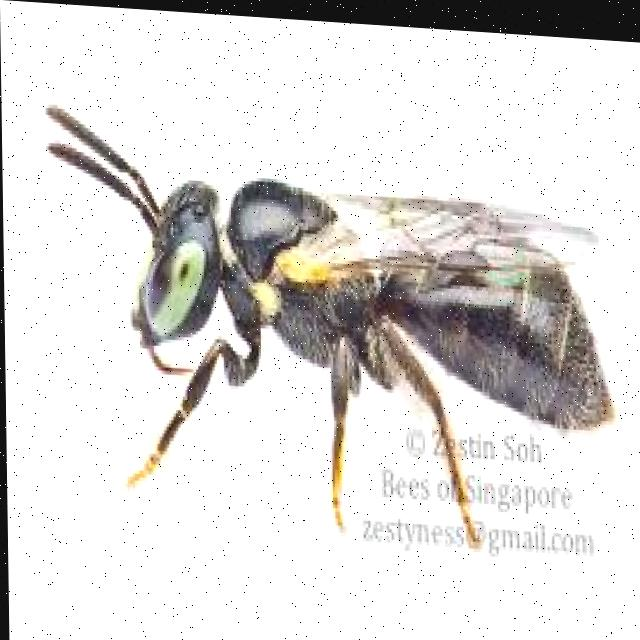Braunsapis: (39, 68, 616, 583)
